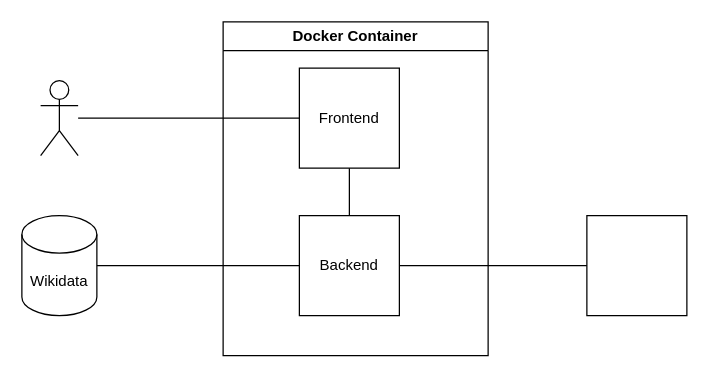
The diagram is 709 pixels wide and 378 high, and some of its shapes have lost their labels. The shapes that lost their labels are listed below. From the top down, each one's centre as x and y in pixels, then its label:
At [58,117]: "User".
At [636,265]: "CampusAI".
